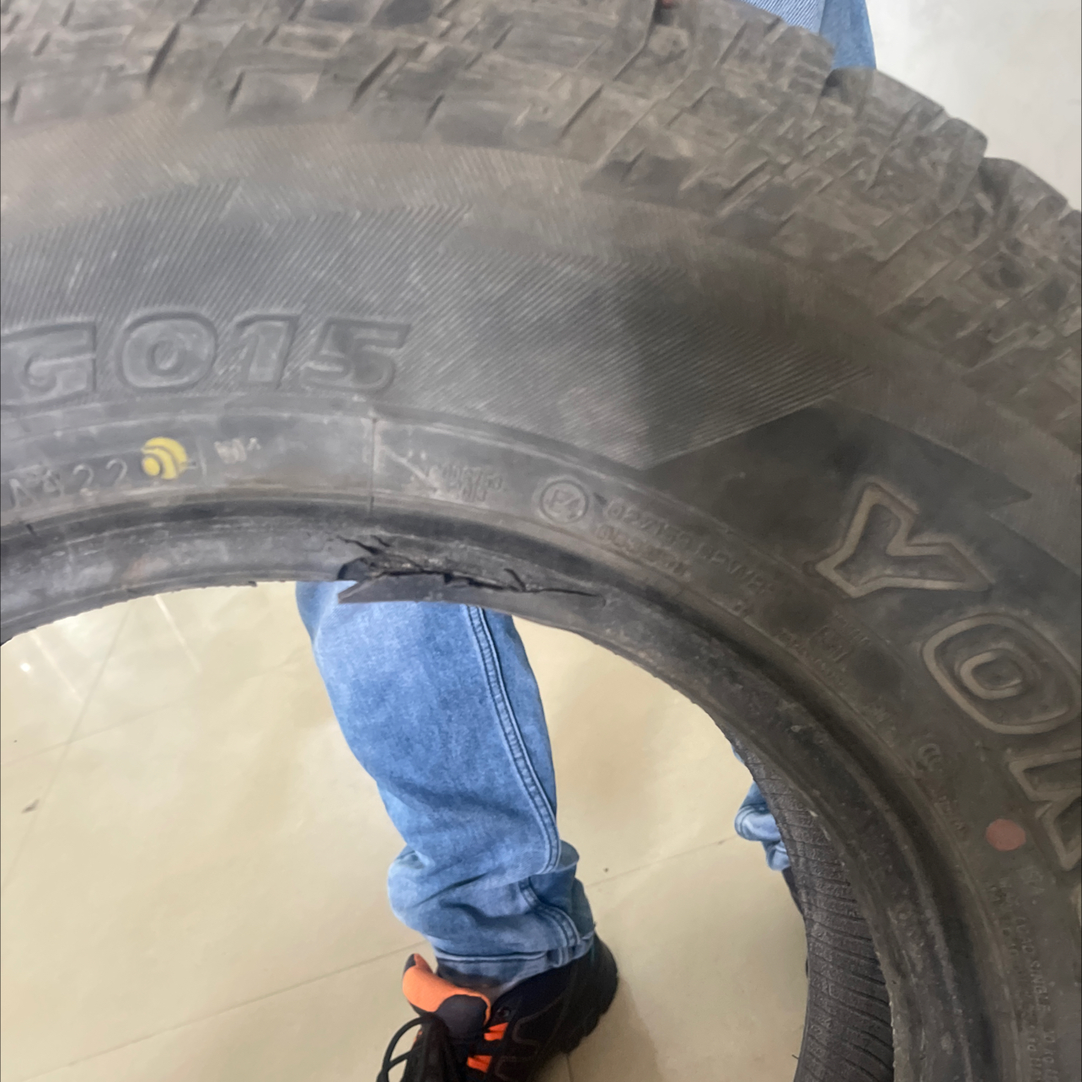bead_damage: (309, 505, 640, 650)
